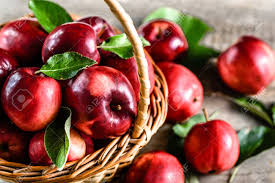apple: (65, 67, 135, 134), (219, 34, 275, 94), (6, 68, 61, 126), (185, 120, 243, 173), (157, 61, 206, 122), (45, 23, 99, 67), (125, 147, 183, 183), (31, 131, 90, 165), (138, 19, 189, 58), (2, 18, 42, 61)
